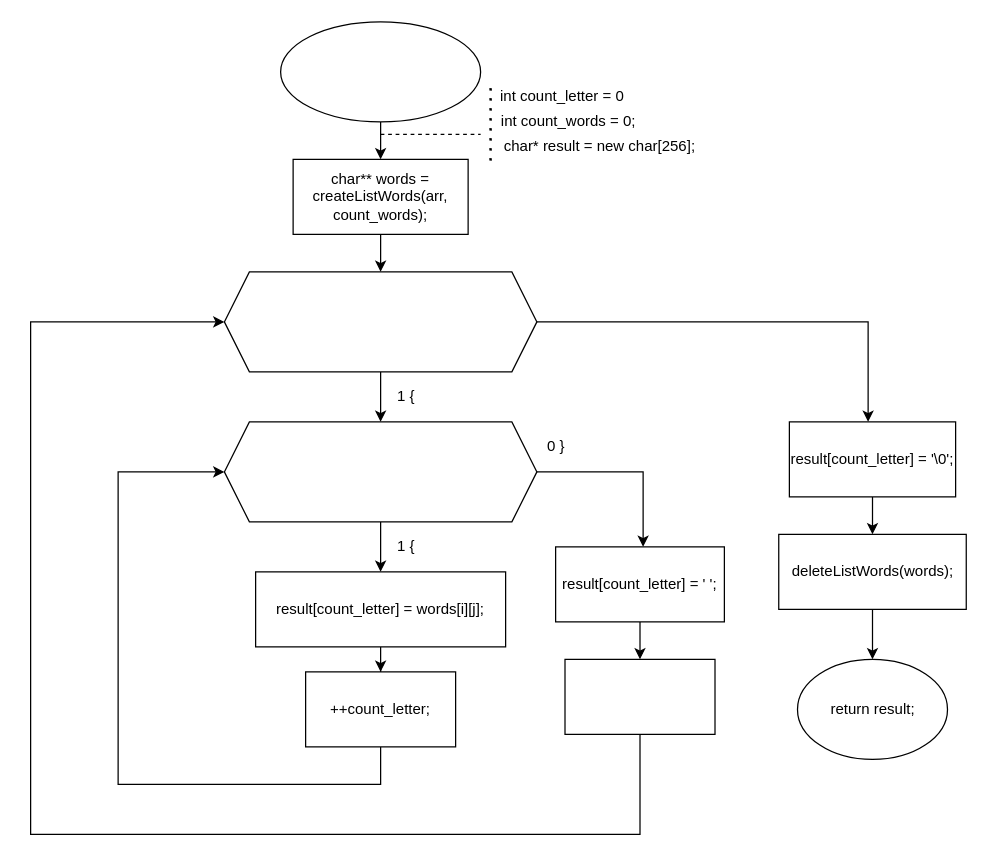
This 989x866 diagram has some shape labels left out. Here are the shapes that lost their labels. From the top down, the centre of each, then its label:
At point 380,71: "char* toNewArrive(char* arr)".
At point 380,321: "for (int i = 0; i < count_words; i += 2)".
At point 380,471: "for (int j = 0; words[i][j] != '\0'; j += 1)".
At point 639,696: "count_letter += 1;".
